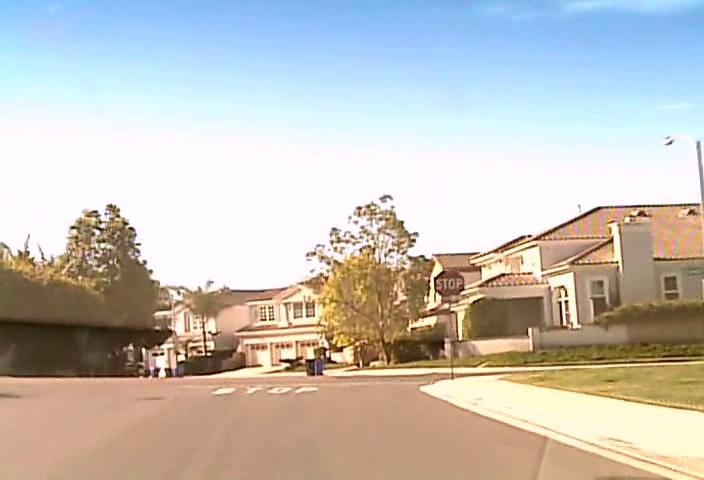stop: (433, 268, 465, 298)
